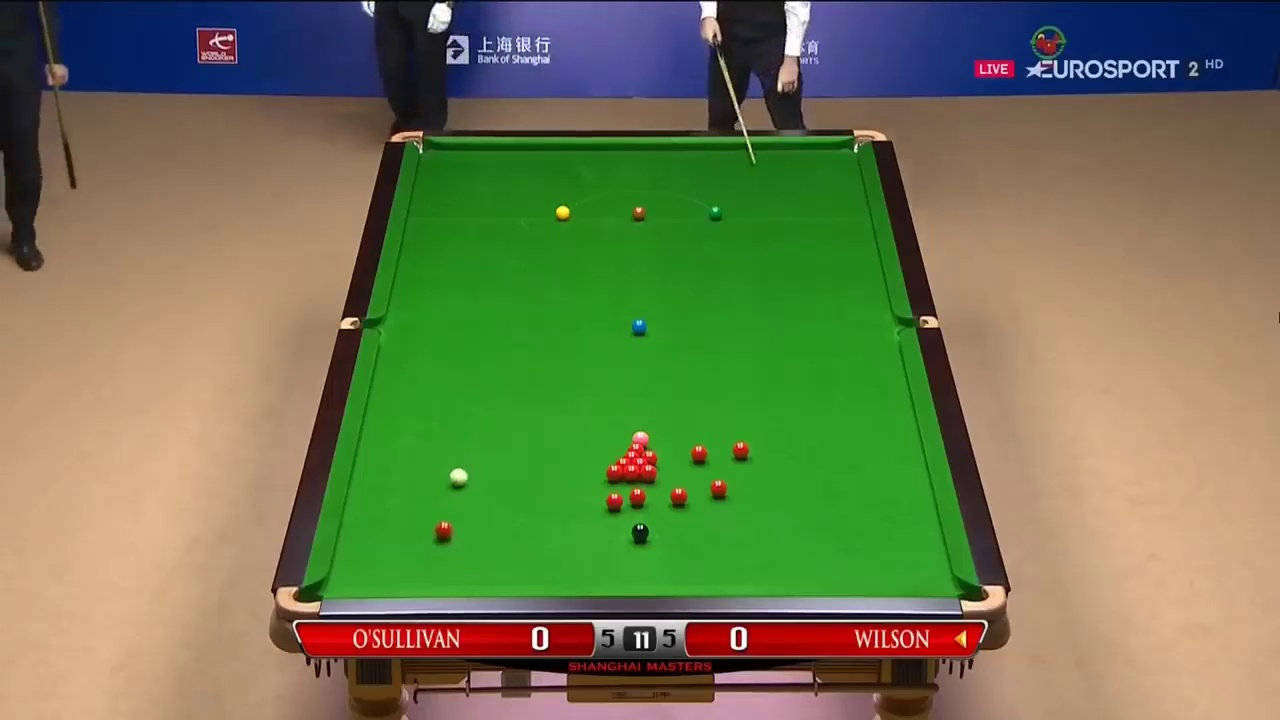ball: (444, 467, 470, 488), (434, 519, 454, 541), (630, 520, 649, 543), (707, 478, 728, 498), (688, 440, 708, 461), (602, 463, 623, 483), (669, 484, 687, 507), (552, 203, 571, 222), (704, 203, 724, 221), (606, 490, 623, 511), (629, 486, 647, 505), (630, 315, 647, 334), (732, 443, 751, 459), (632, 206, 647, 221)
